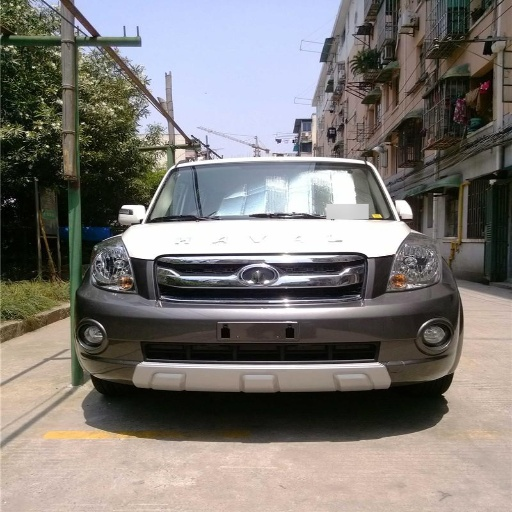front_bumper: (74, 254, 462, 391)
front_right_light: (91, 239, 148, 294)
hood: (127, 220, 410, 258)
